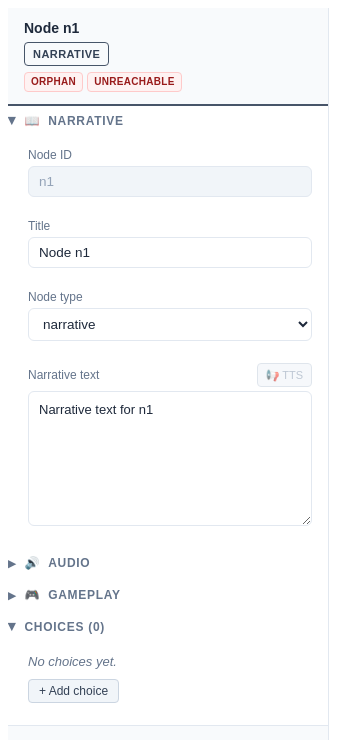
Scenario: CompanionPanel — activities list › shows "No activities yet." when gameplay section is opened with no activities
What coordinates should you click on to do the following:
click the button "▶ 🎮 Gameplay"
I would click on:
 (84, 595)
Its box is [8, 580, 328, 610].
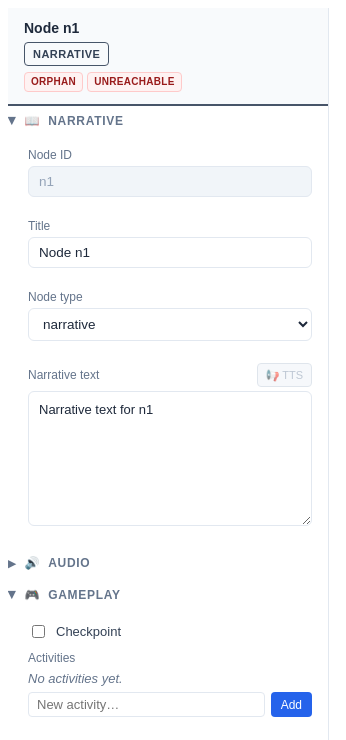
Expected: the text "No activities yet." is shown, [28, 671, 123, 686]
